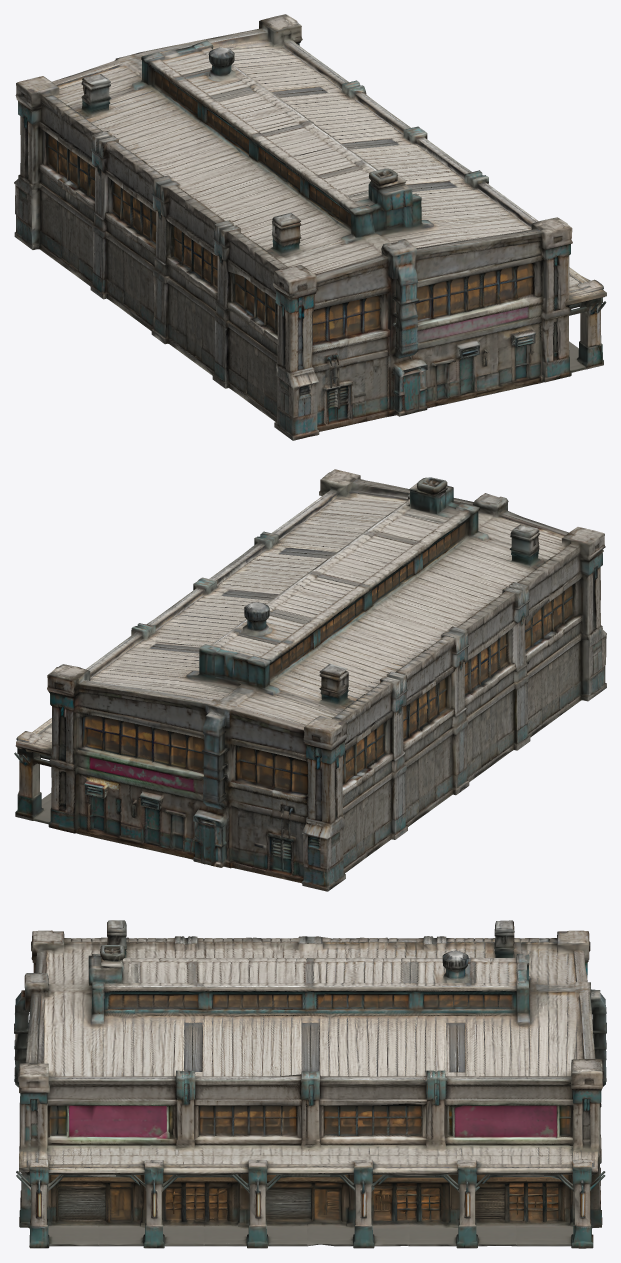
File: kairox-shop-arcade.glb
3 views of the same model, one above another, from view 1: azimuth 30°, elevation 25°; view 2: azimuth 150°, elevation 25°; view 3: azimuth 270°, elevation 25° (orthographic).
Visible parts, largest first — view 1: kairox-shop-arcade; view 2: kairox-shop-arcade; view 3: kairox-shop-arcade.
Boxes of the visible parts, left/top/right/bottom form: kairox-shop-arcade: left=14, top=14, right=606, bottom=440; kairox-shop-arcade: left=14, top=469, right=606, bottom=891; kairox-shop-arcade: left=14, top=920, right=606, bottom=1248.
Size of the model in its own units: 19.3 by 12 by 30.75.
1 material, 1 textured.
